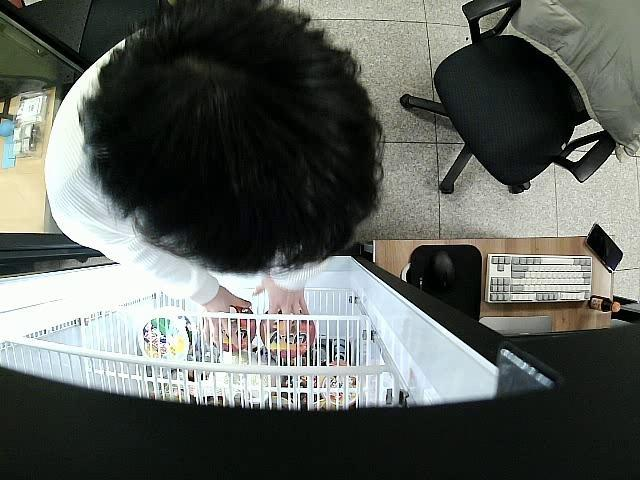05_nuguri_L: (261, 312, 315, 360), (215, 308, 260, 352)
